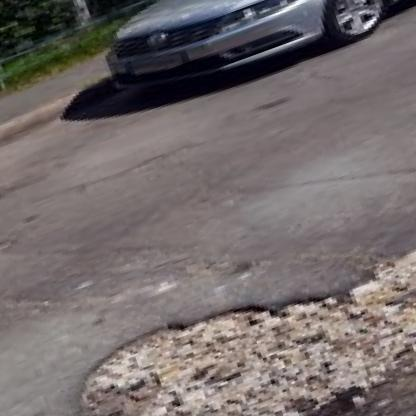pothole: (65, 216, 416, 416)
